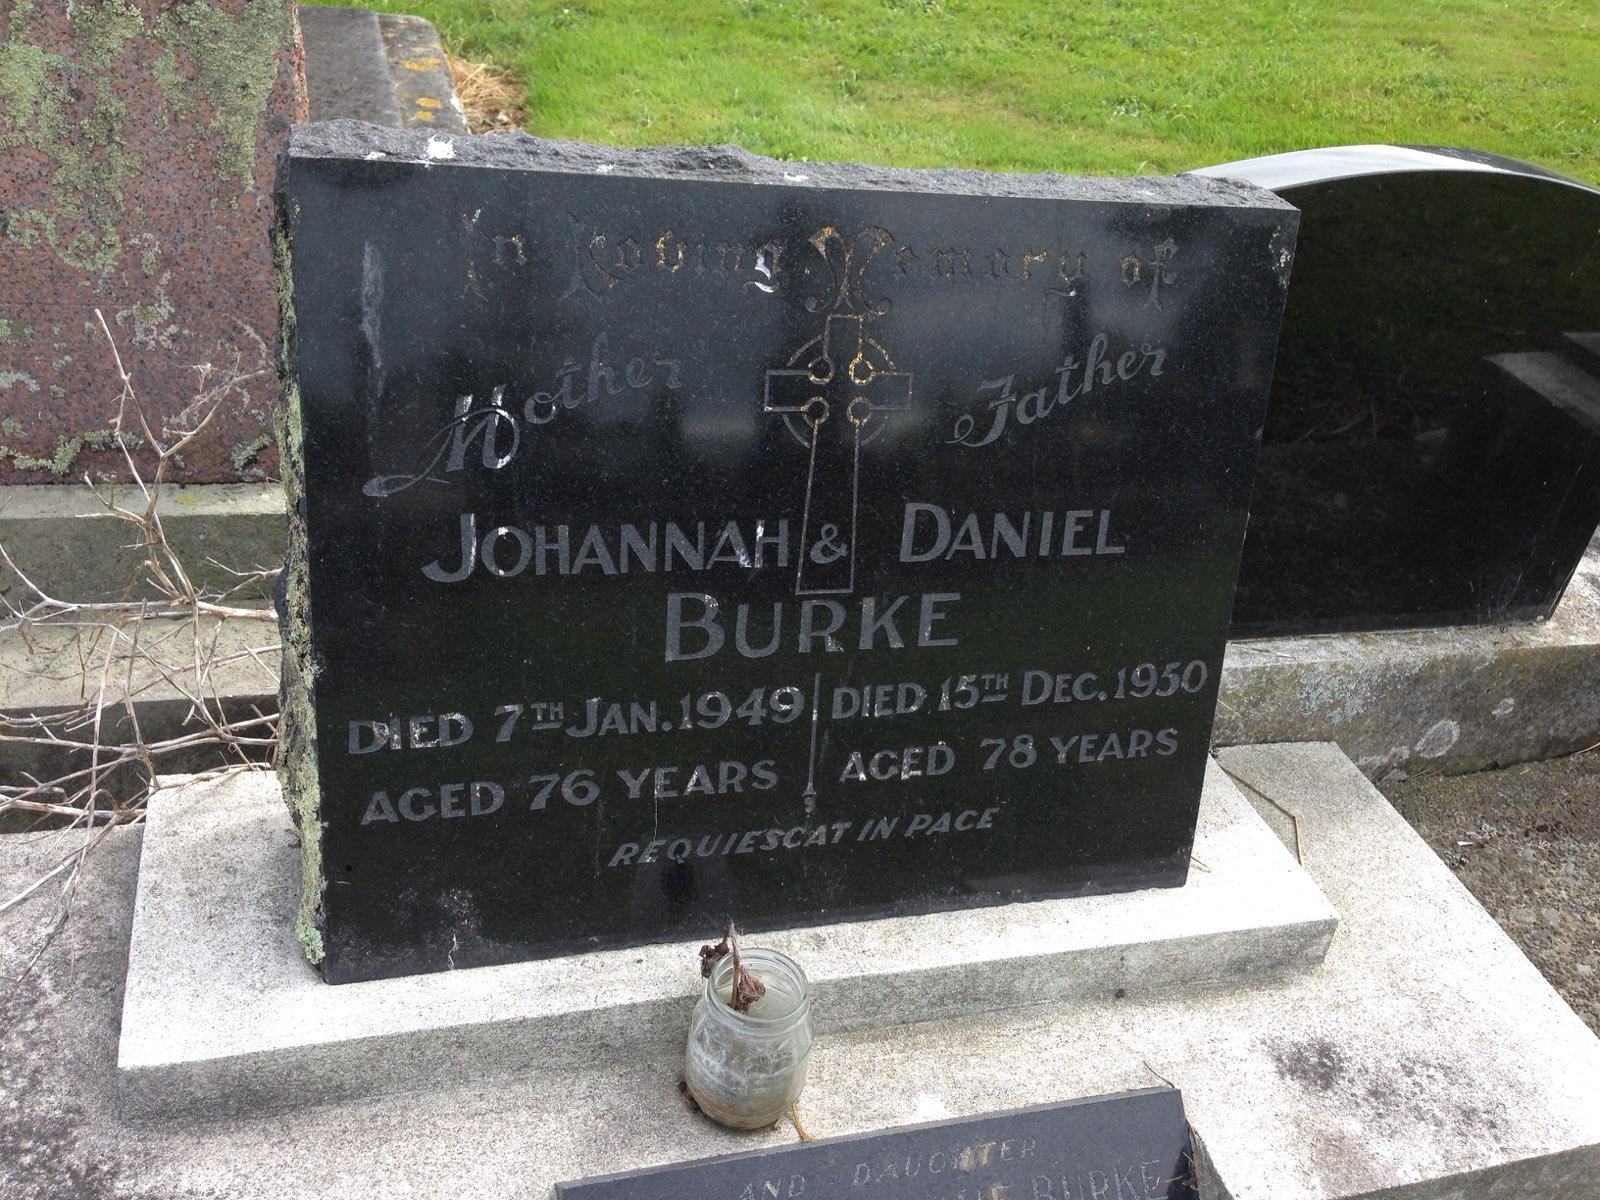upright: (39, 134, 1459, 1196)
